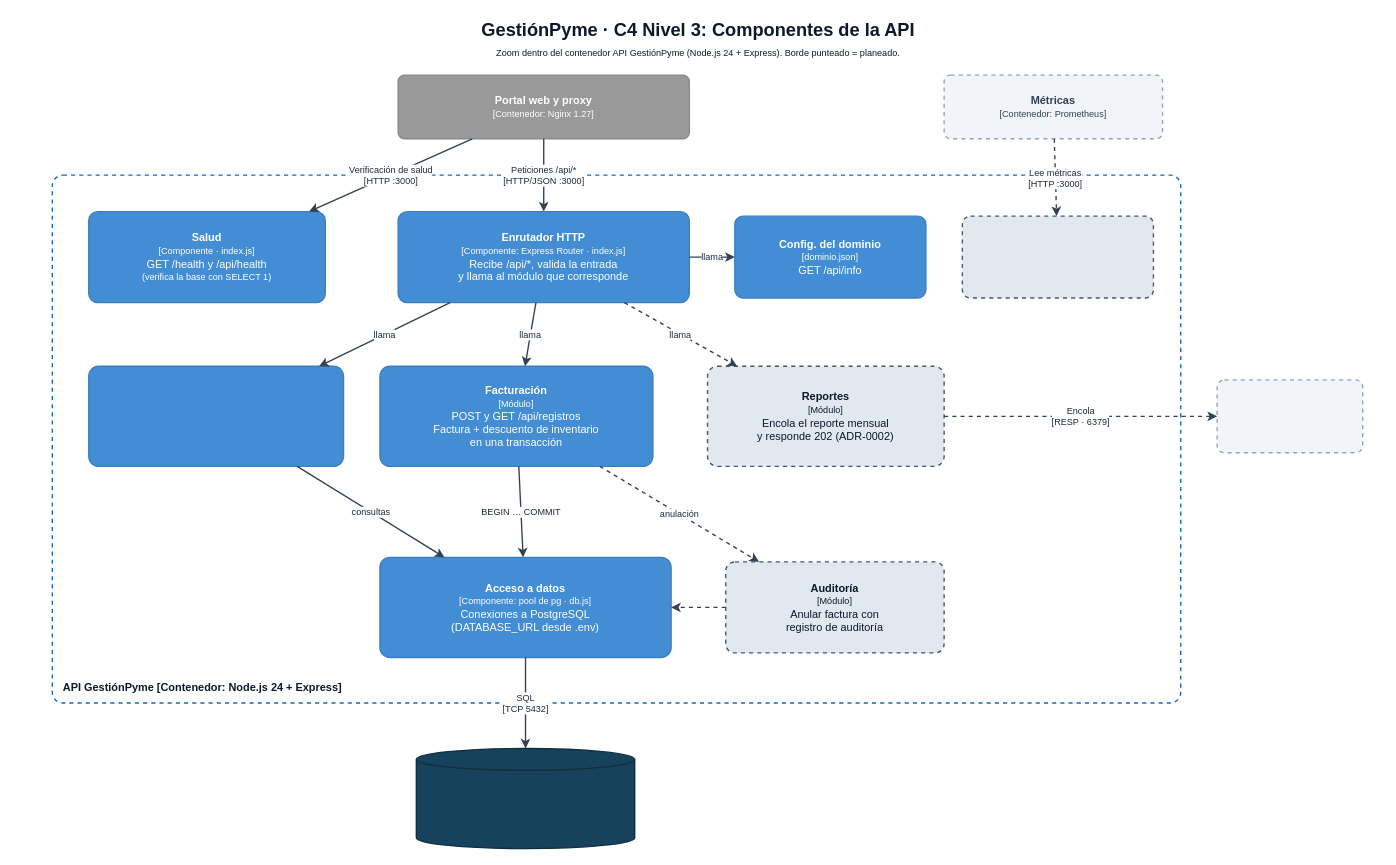
This 1396x865 diagram has some shape labels left out. Each missing label, with the centre of its shape:
"Base de datos [Contenedor: PostgreSQL 17]" belongs at (x=525, y=798).
"Caché y cola [Redis 7]" belongs at (x=1289, y=416).
"Métricas [Componente] GET /metrics" belongs at (x=1057, y=256).
"Productos e inventario [Módulo] GET /api/items GET /api/resumen" belongs at (x=216, y=416).
